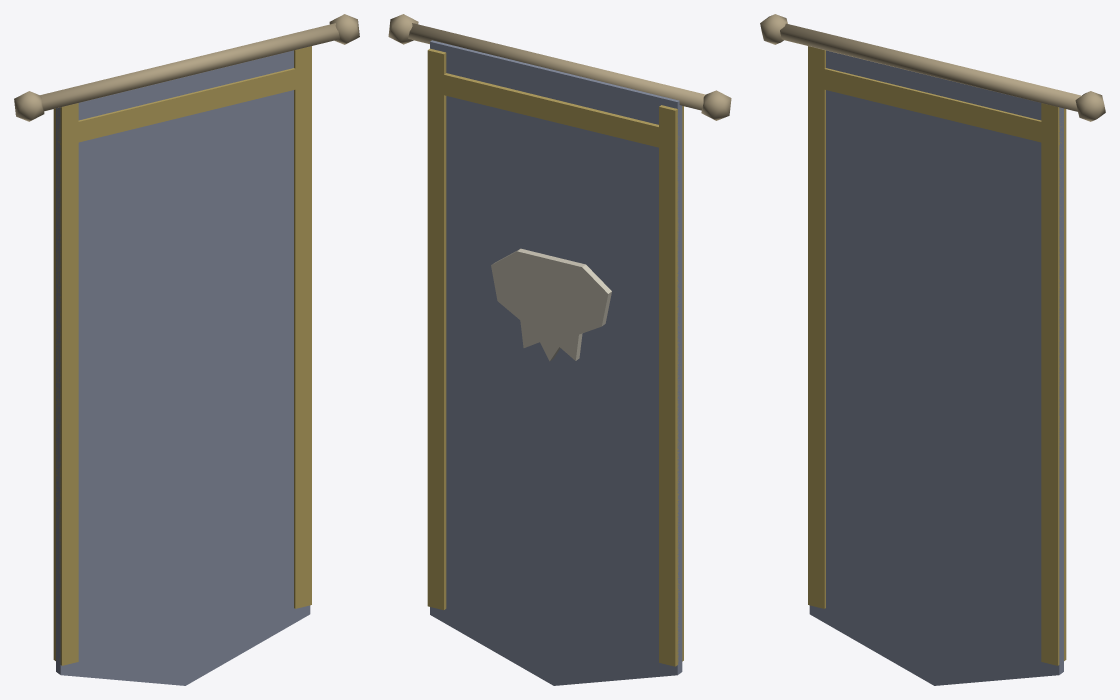
File: angry_bones_banner_v0.glb
The picture shows the model from 3 angles, left to right: view 1: azimuth 30°, elevation 25°; view 2: azimuth 150°, elevation 25°; view 3: azimuth 330°, elevation 25°; orthographic projection.
Parts seen in each view (by area): view 1: angry_bones_banner_v0; view 2: angry_bones_banner_v0; view 3: angry_bones_banner_v0.
Part boxes in pixels (box(x1,y1,x2,y2)): angry_bones_banner_v0: box(14, 14, 359, 685); angry_bones_banner_v0: box(388, 14, 731, 685); angry_bones_banner_v0: box(760, 14, 1105, 685).
Bounding box in the file's own units: 1.04 × 1.84 × 0.0933.
